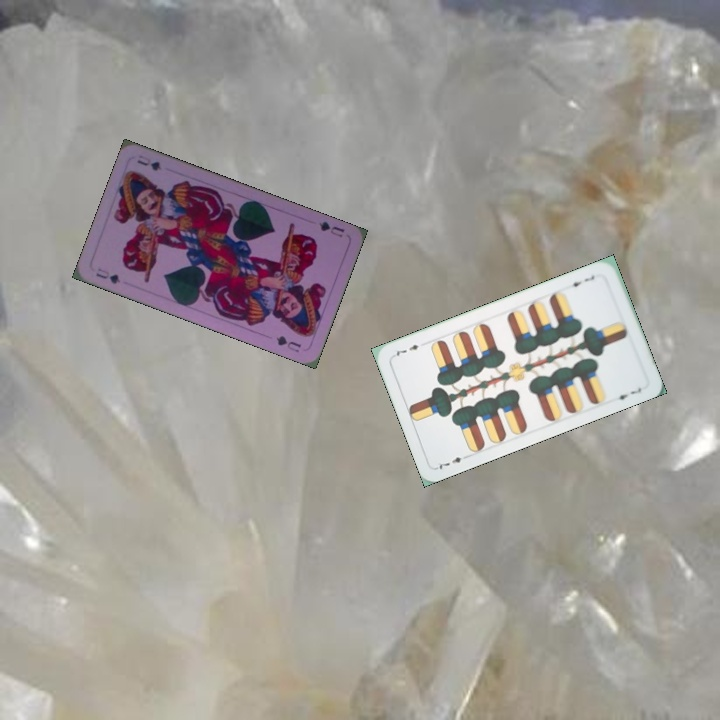E7: (432, 451, 472, 472), (564, 271, 597, 289)
GU: (315, 217, 347, 240), (92, 264, 123, 287)
